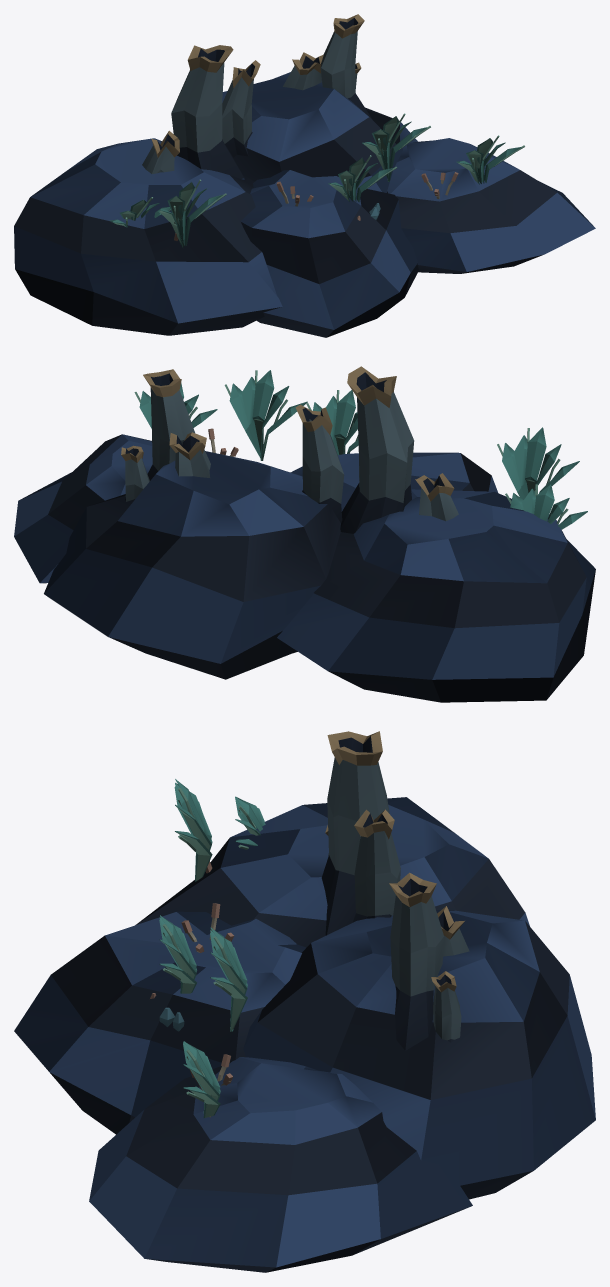
File: abyss-vent-reef.glb
3 views of the same model, one above another, from view 1: azimuth 30°, elevation 25°; view 2: azimuth 150°, elevation 25°; view 3: azimuth 270°, elevation 25° (orthographic). The views are drawn at different scales.
Parts seen in each view (by area): view 1: abyss-vent-reef; view 2: abyss-vent-reef; view 3: abyss-vent-reef.
Boxes of the visible parts, bbox=[...] form: abyss-vent-reef: bbox=[14, 14, 595, 337]; abyss-vent-reef: bbox=[14, 366, 595, 702]; abyss-vent-reef: bbox=[14, 731, 595, 1272].
Bounding box in the file's own units: 12.23 × 5.11 × 8.38.
